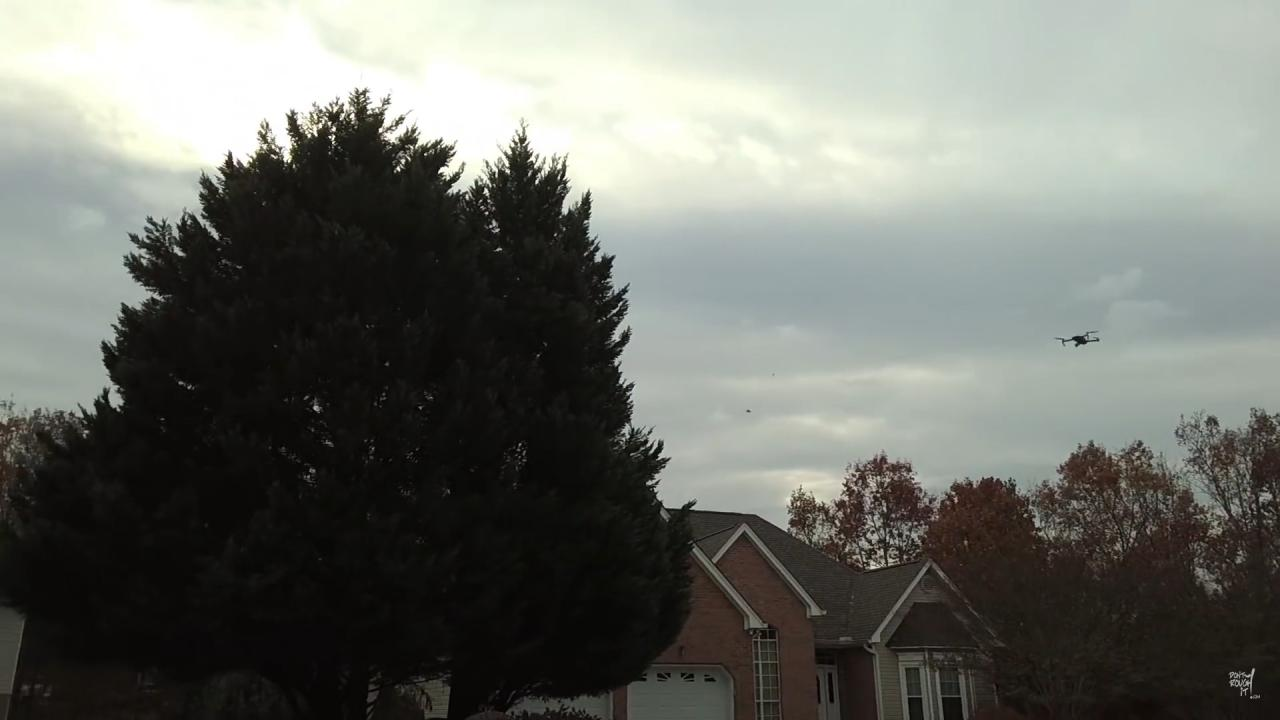Drone: (1051, 320, 1109, 358)
